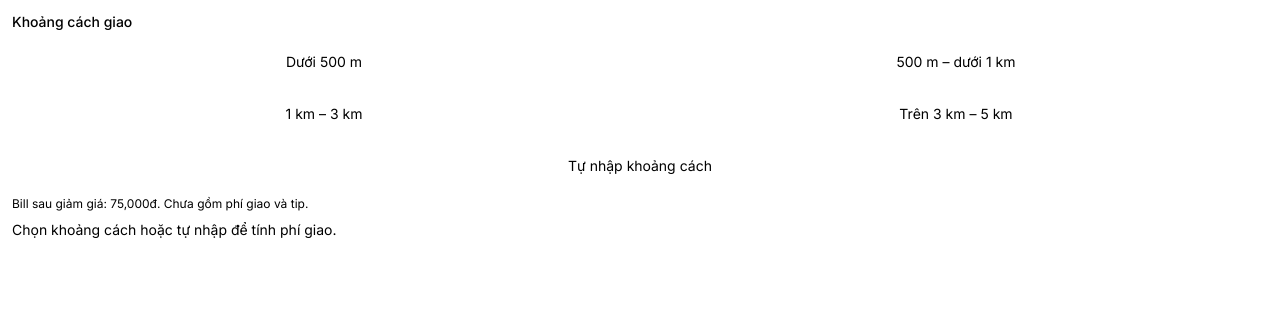
Test: quick delivery distance choices › clears the range when switching to custom entry and accepts decimal comma
This screenshot has width=1280, height=323.
Click the button "Dưới 500 m": click(324, 62) x1=12 y1=40 x2=636 y2=84
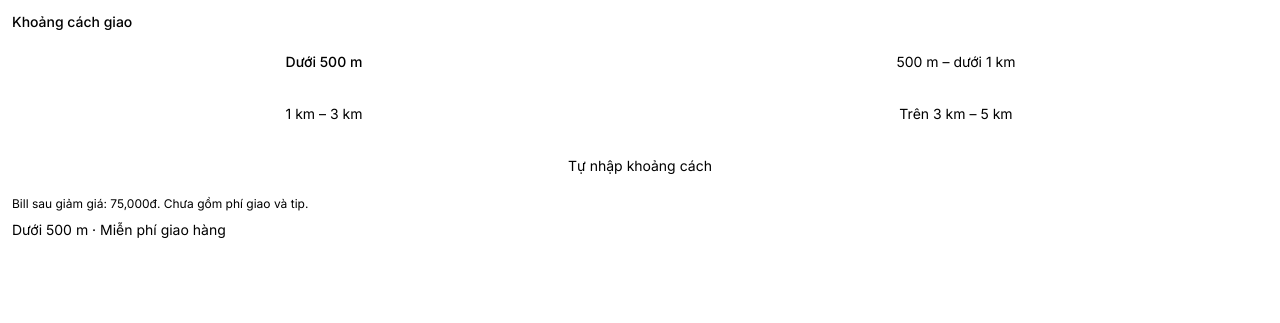
Click the button "Tự nhập khoảng cách": click(640, 166) x1=12 y1=144 x2=1268 y2=188
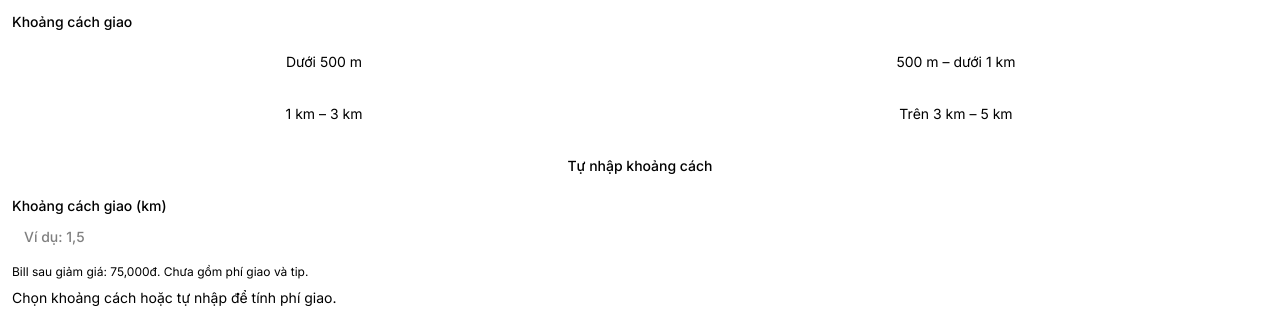
Check: the message shows "Chọn khoảng cách", box x1=12 y1=289 x2=336 y2=306
In the field labelled "Khoảng cách giao (km)": (640, 236) x1=12 y1=216 x2=1268 y2=256, type "3,"
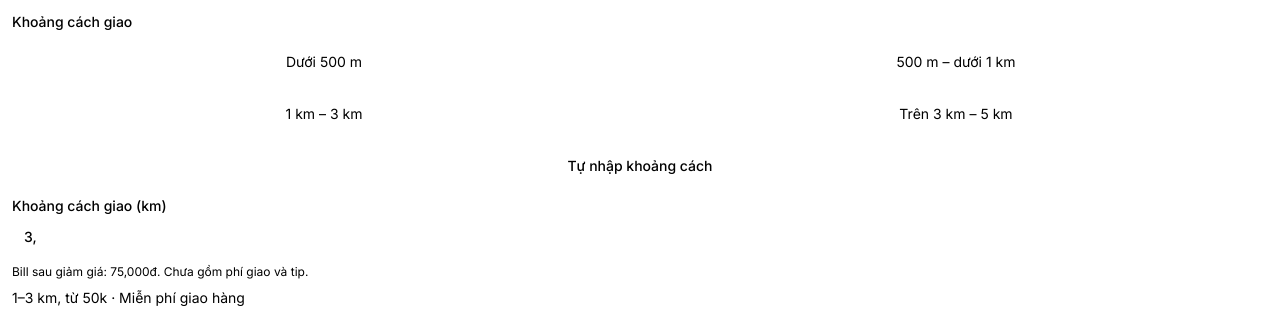
Replace the text in the field labelled "Khoảng cách giao (km)" with "3,5": (640, 236) x1=12 y1=216 x2=1268 y2=256
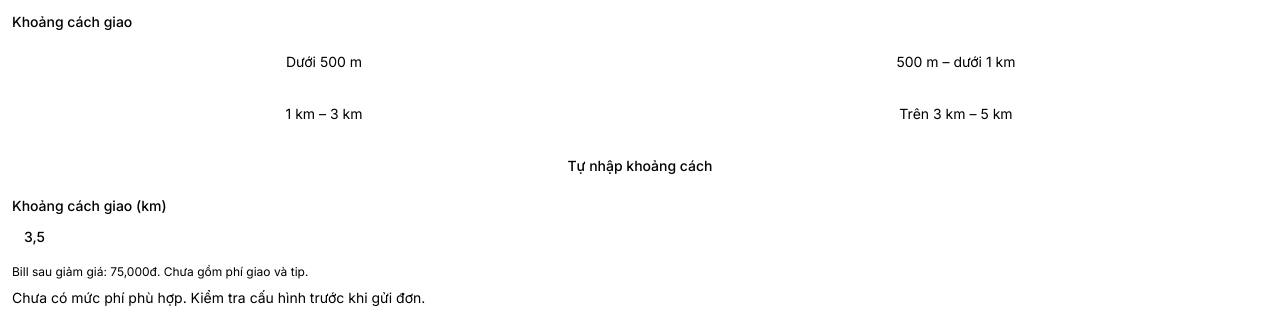
Check: the message shows "Chưa có mức phí phù hợp", box x1=12 y1=289 x2=425 y2=306
Click the button "Dưới 500 m": click(324, 62) x1=12 y1=40 x2=636 y2=84
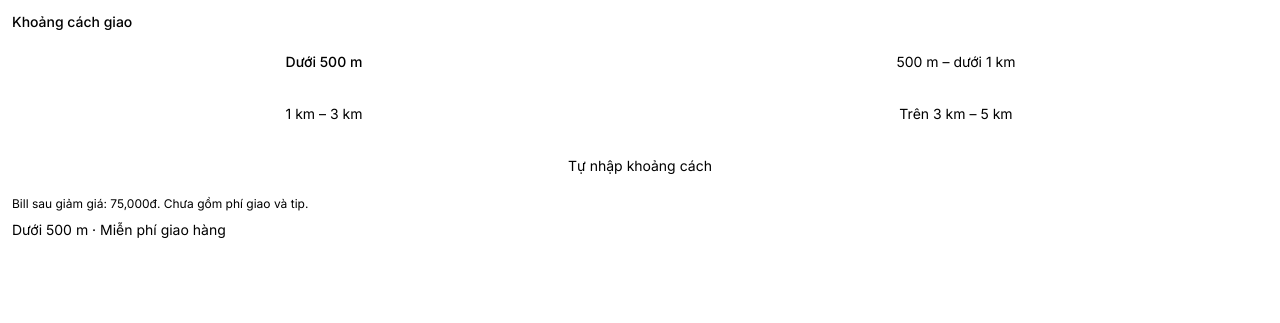
Click the button "Tự nhập khoảng cách": click(640, 166) x1=12 y1=144 x2=1268 y2=188
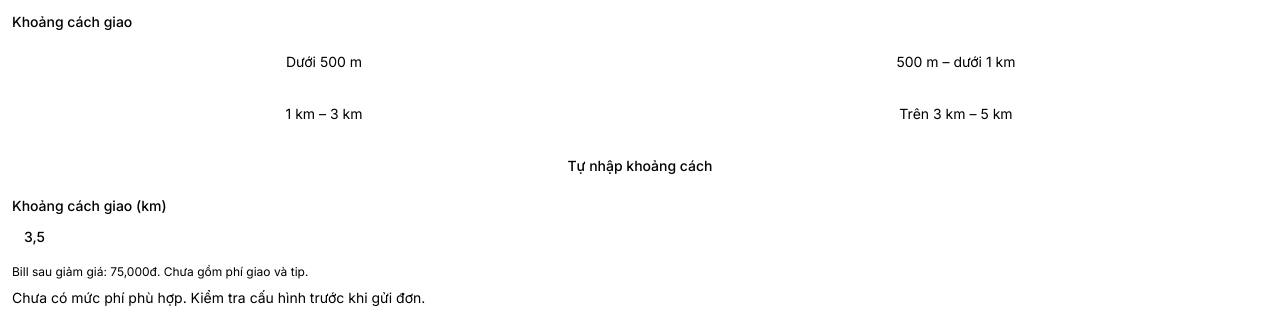
Check: the field labelled "Khoảng cách giao (km)" holds "3,5", box x1=12 y1=216 x2=1268 y2=256
